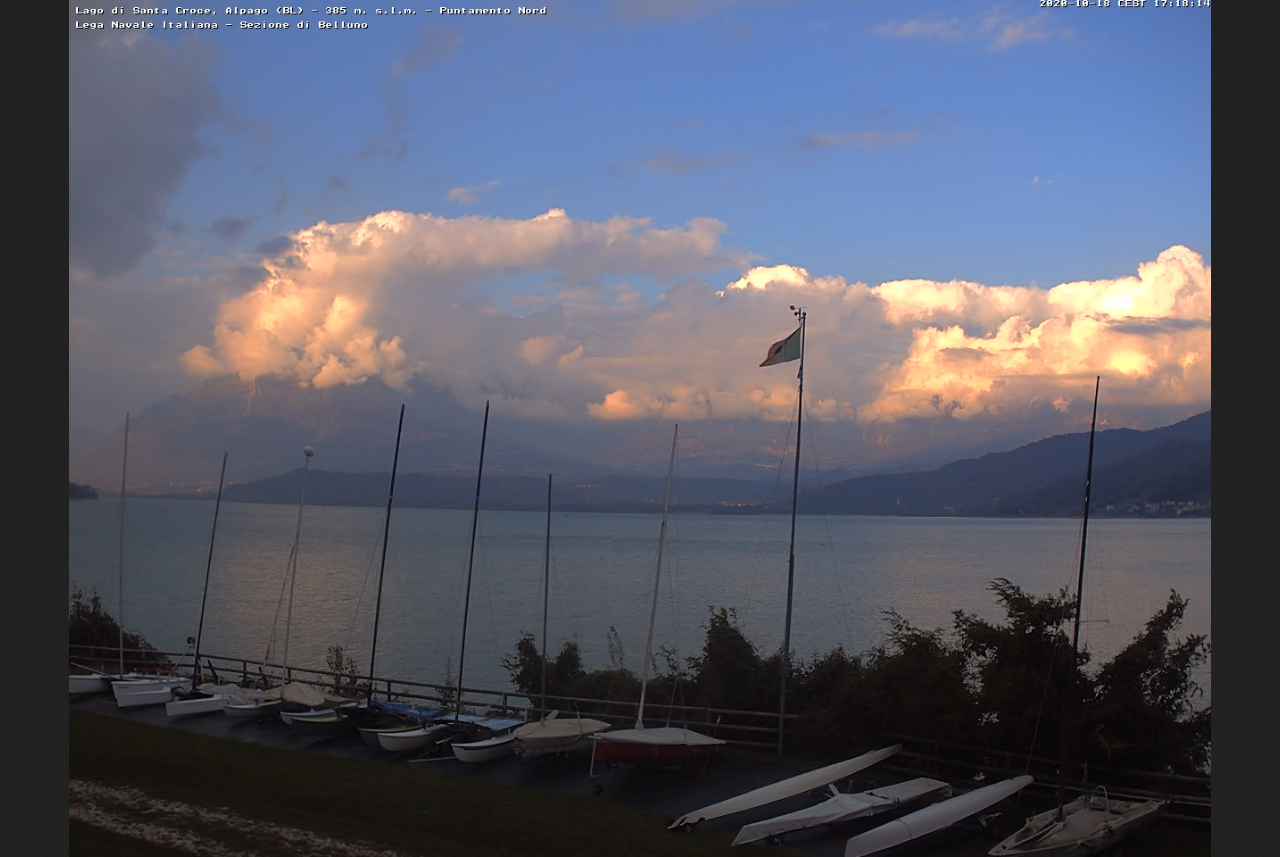yes: (761, 324, 804, 368)
